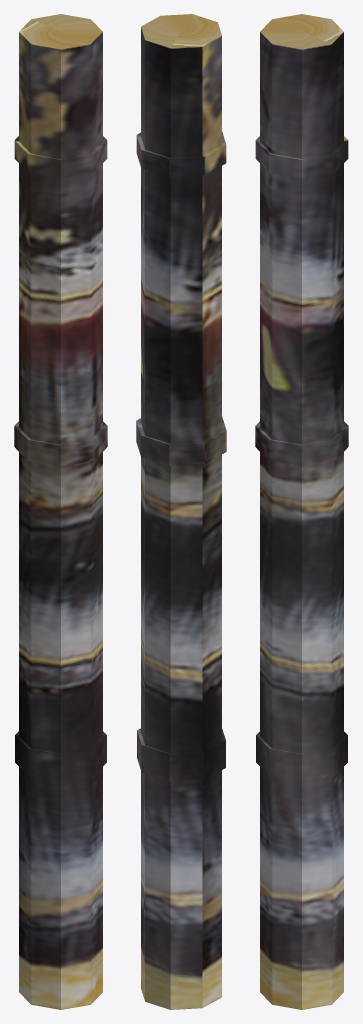
File: 1sugar.fbx
The picture shows the model from 3 angles, left to right: view 1: azimuth 90°, elevation 25°; view 2: azimuth 210°, elevation 25°; view 3: azimuth 270°, elevation 25°; orthographic projection.
Visible parts, largest first — view 1: pCylinder3; view 2: pCylinder3; view 3: pCylinder3.
Part boxes in pixels (x1,y1,x2,y2): pCylinder3: (14, 14, 107, 1009); pCylinder3: (136, 14, 226, 1009); pCylinder3: (255, 14, 348, 1009).
Size of the model in its own units: 0.4833 by 5.48 by 0.4833.
Materials: 1 (1 with a texture image).
